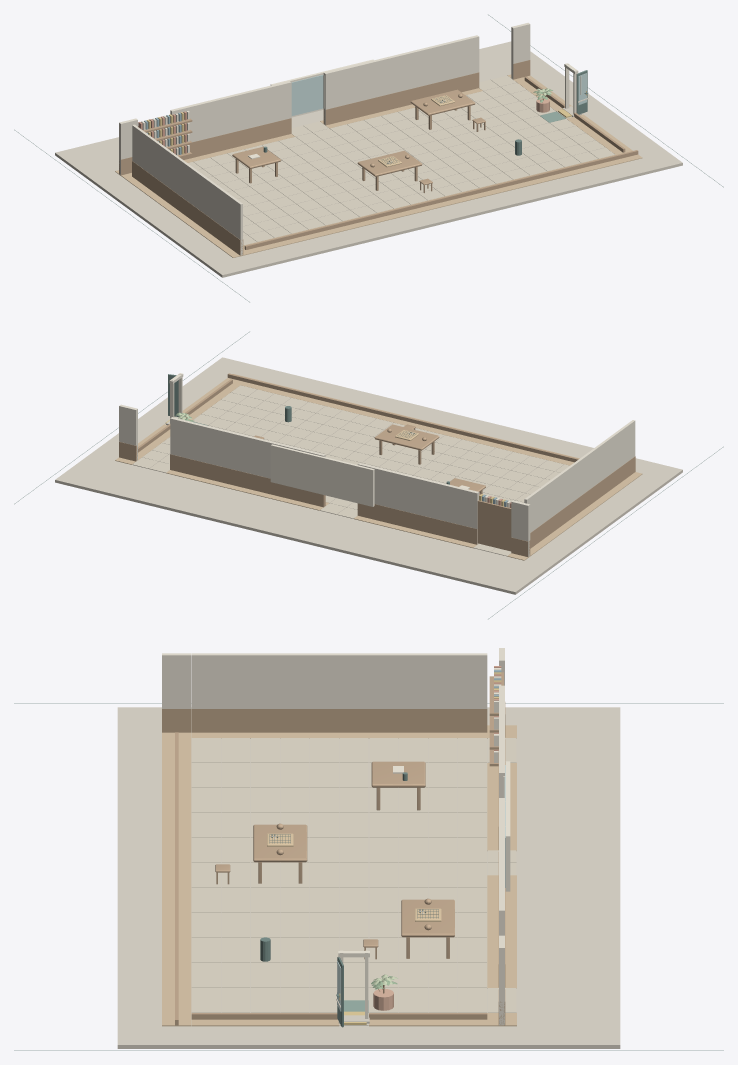
Rendered from room.glb.
The picture shows the model from 3 angles, top to bottom: view 1: azimuth 30°, elevation 25°; view 2: azimuth 150°, elevation 25°; view 3: azimuth 270°, elevation 25°; orthographic projection. The views are drawn at different scales.
Parts seen in each view (by area): view 1: ground, building slab, cutaway wall, wainscot, wall foundation, cold glass, book.001, surrounding corridor seam; view 2: building slab, ground, cutaway wall, wainscot, wall foundation, book.001, surrounding corridor seam; view 3: ground, building slab, cutaway wall, wainscot, wall foundation, book.001, surrounding corridor seam, goban.
Part boxes in pixels (x1,y1,x2,y2): ground: (188,75,614,245); building slab: (55,41,682,277); cutaway wall: (119,22,530,255); wainscot: (119,60,638,255); wall foundation: (115,74,642,257); cold glass: (291,73,586,115); book.001: (141,59,588,158); surrounding corridor seam: (14,14,723,302); building slab: (55,357,682,594); ground: (132,385,569,556); cutaway wall: (119,404,635,556); wainscot: (119,373,635,556); wall foundation: (115,374,642,560); book.001: (169,373,510,507); surrounding corridor seam: (14,331,723,619); ground: (191,738,516,1025); building slab: (117,707,620,1048); cutaway wall: (162,648,504,1025); wainscot: (162,672,505,1025); wall foundation: (162,725,516,1026); book.001: (336,668,510,1018); surrounding corridor seam: (14,703,723,1050); goban: (267,833,441,921).
Size of what is drawn, in the model's own units: 22.22 by 2.45 by 19.2.
